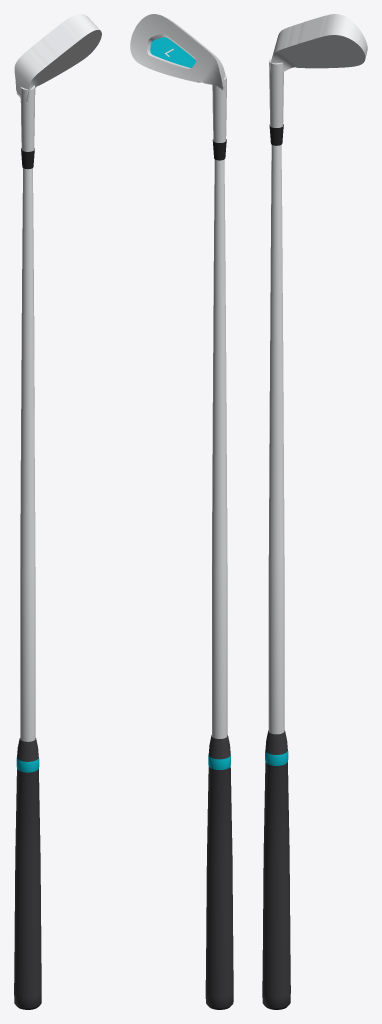
File: Club_iron7_cavity.fbx
The picture shows the model from 3 angles, left to right: view 1: azimuth 30°, elevation 25°; view 2: azimuth 150°, elevation 25°; view 3: azimuth 330°, elevation 25°; orthographic projection. The views are drawn at different scales.
Parts seen in each view (by area): view 1: Club_iron7_cavity; view 2: Club_iron7_cavity; view 3: Club_iron7_cavity.
Boxes of the visible parts, left/top/right/bottom form: Club_iron7_cavity: left=14, top=14, right=101, bottom=1009; Club_iron7_cavity: left=130, top=14, right=233, bottom=1009; Club_iron7_cavity: left=262, top=14, right=367, bottom=1009.
Bounding box in the file's own units: 0.0965 × 0.9846 × 0.0397.
